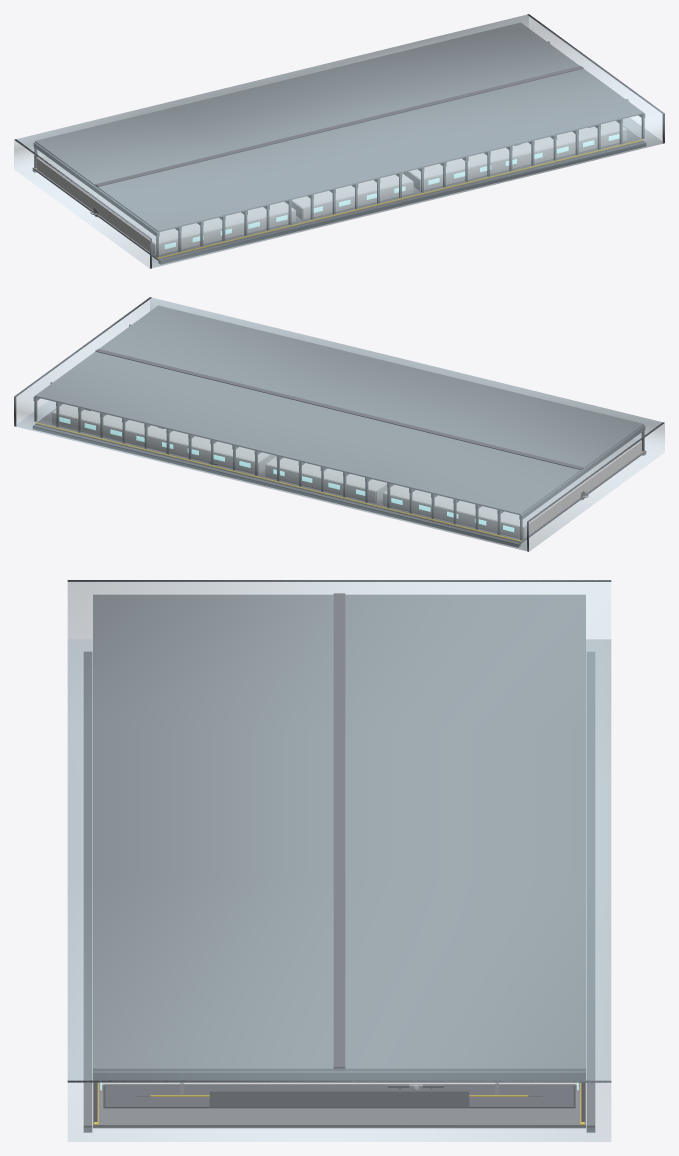
File: dsx-02_deck_02_operations.glb
3 renders of one model, top to bottom at view 1: azimuth 30°, elevation 25°; view 2: azimuth 150°, elevation 25°; view 3: azimuth 270°, elevation 25°, orthographic. The views are drawn at different scales.
Parts seen in each view (by area): view 1: DECK02_HullBand, DECK02_CeilingFrame, DECK02_DeckPlate, DECK02_Room_ScienceLab, DECK02_Room_Hangar, DECK02_Room_MissionOps; view 2: DECK02_HullBand, DECK02_CeilingFrame, DECK02_DeckPlate, DECK02_Room_ScienceLab, DECK02_Room_Hangar, DECK02_Room_MissionOps; view 3: DECK02_HullBand, DECK02_CeilingFrame, DECK02_DeckPlate, DECK02_Room_Hangar.
Boxes of the visible parts, x1,y1,x2,y2 form: DECK02_HullBand: [14, 14, 664, 268]; DECK02_CeilingFrame: [33, 22, 645, 257]; DECK02_DeckPlate: [32, 121, 646, 264]; DECK02_Room_ScienceLab: [37, 156, 295, 255]; DECK02_Room_Hangar: [402, 121, 626, 191]; DECK02_Room_MissionOps: [285, 173, 413, 220]; DECK02_HullBand: [14, 297, 664, 551]; DECK02_CeilingFrame: [33, 305, 645, 540]; DECK02_DeckPlate: [32, 404, 646, 547]; DECK02_Room_ScienceLab: [383, 439, 641, 538]; DECK02_Room_Hangar: [52, 404, 276, 474]; DECK02_Room_MissionOps: [265, 456, 393, 503]; DECK02_HullBand: [67, 580, 611, 1141]; DECK02_CeilingFrame: [93, 593, 585, 1121]; DECK02_DeckPlate: [83, 651, 595, 1132]; DECK02_Room_Hangar: [100, 1082, 578, 1108].
Bounding box in the file's own units: 140 × 9.31 × 64.
